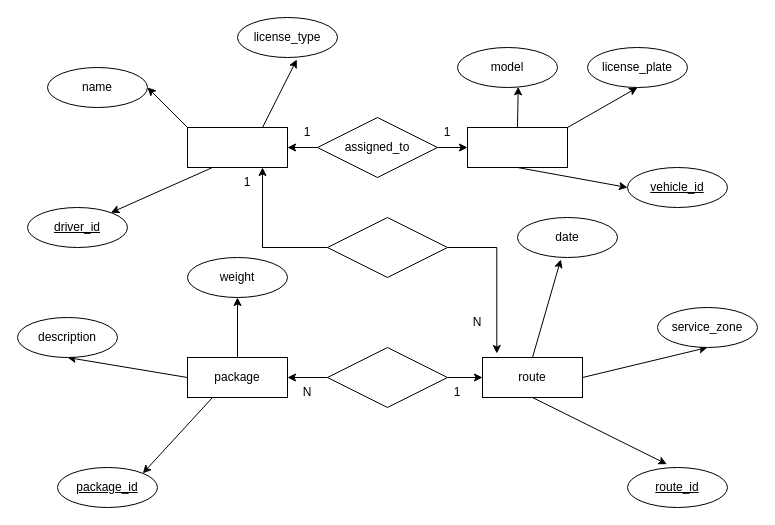
Image size: 775x525. Some labels were removed from this diagram. The box of each missing label's shape, as (x1, y1, x2, y2) in pixels:
contains: (326, 346, 448, 408)
driver: (186, 126, 288, 168)
responsible_for: (326, 216, 448, 278)
vehicle: (466, 126, 568, 168)
